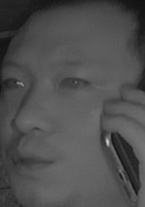eye: (59, 75, 90, 92), (3, 75, 27, 92)
mouth: (9, 140, 62, 176)
